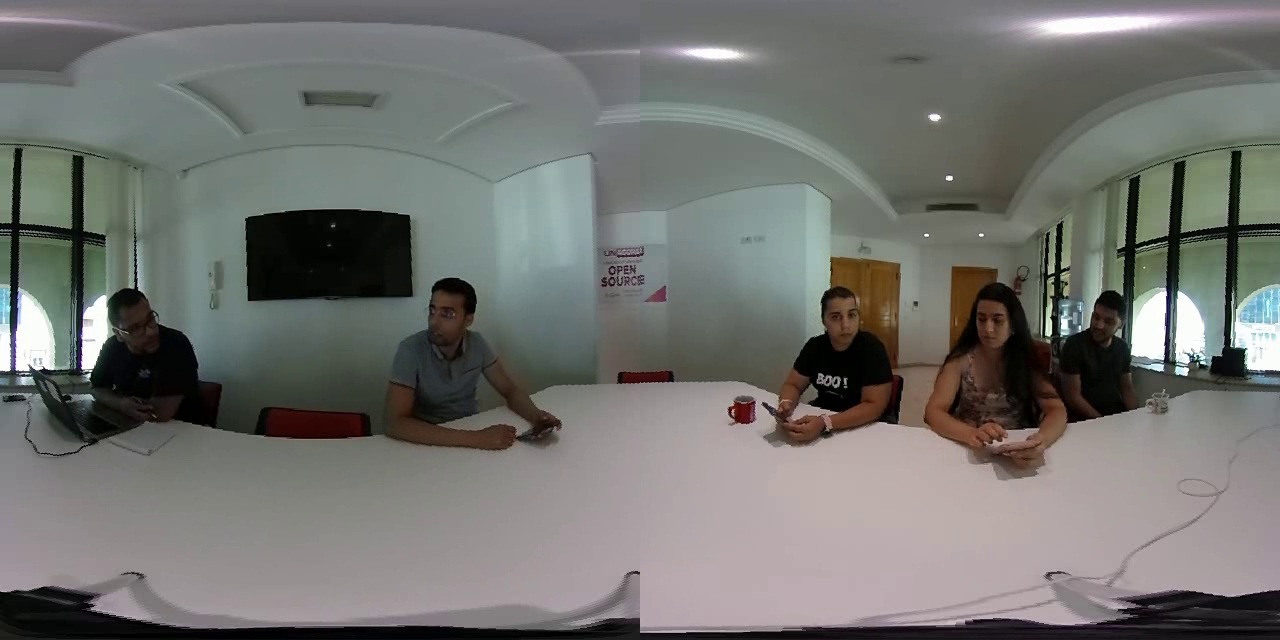person: (381, 272, 518, 455), (914, 276, 1049, 453), (779, 266, 891, 441), (86, 276, 203, 437), (1054, 284, 1159, 417)
